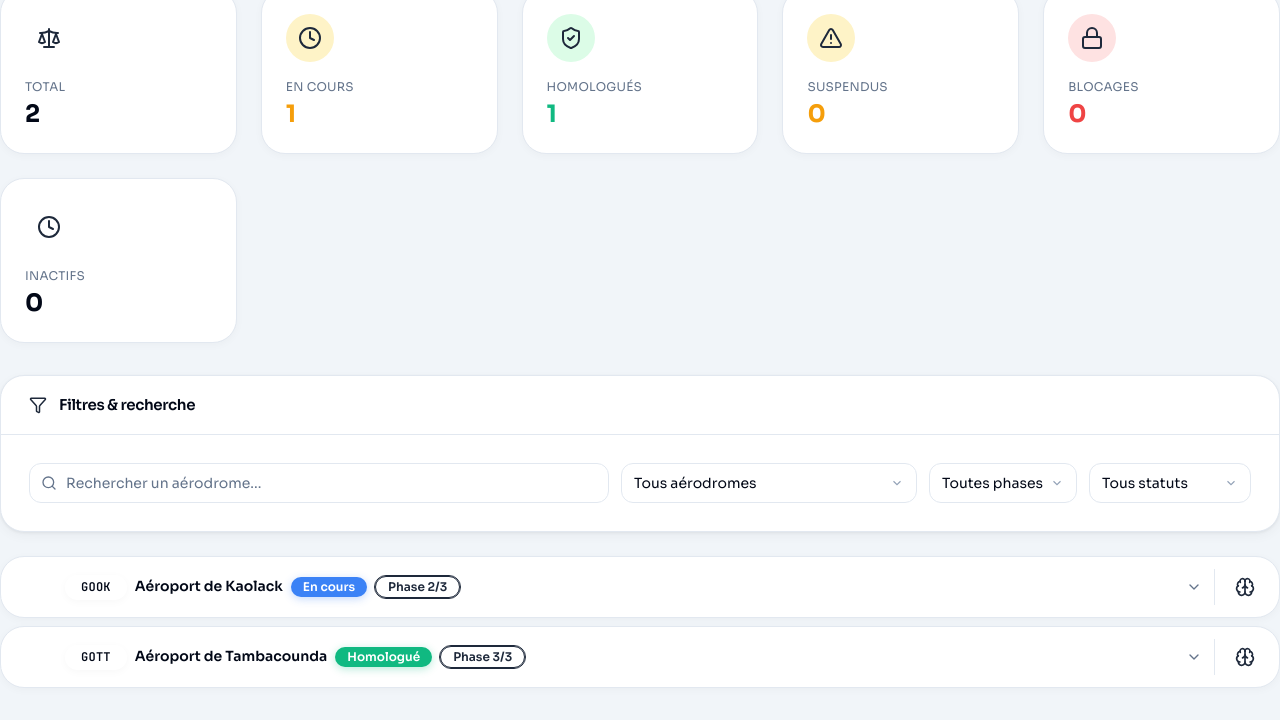
Test: HomologationModule › Accordéon et affichage des phases › ouvre l'accordéon GOOK et affiche les 3 phases
(page scrolled)
Click the button "GOOK": (96, 587) [17, 569, 1202, 605]
(page scrolled)
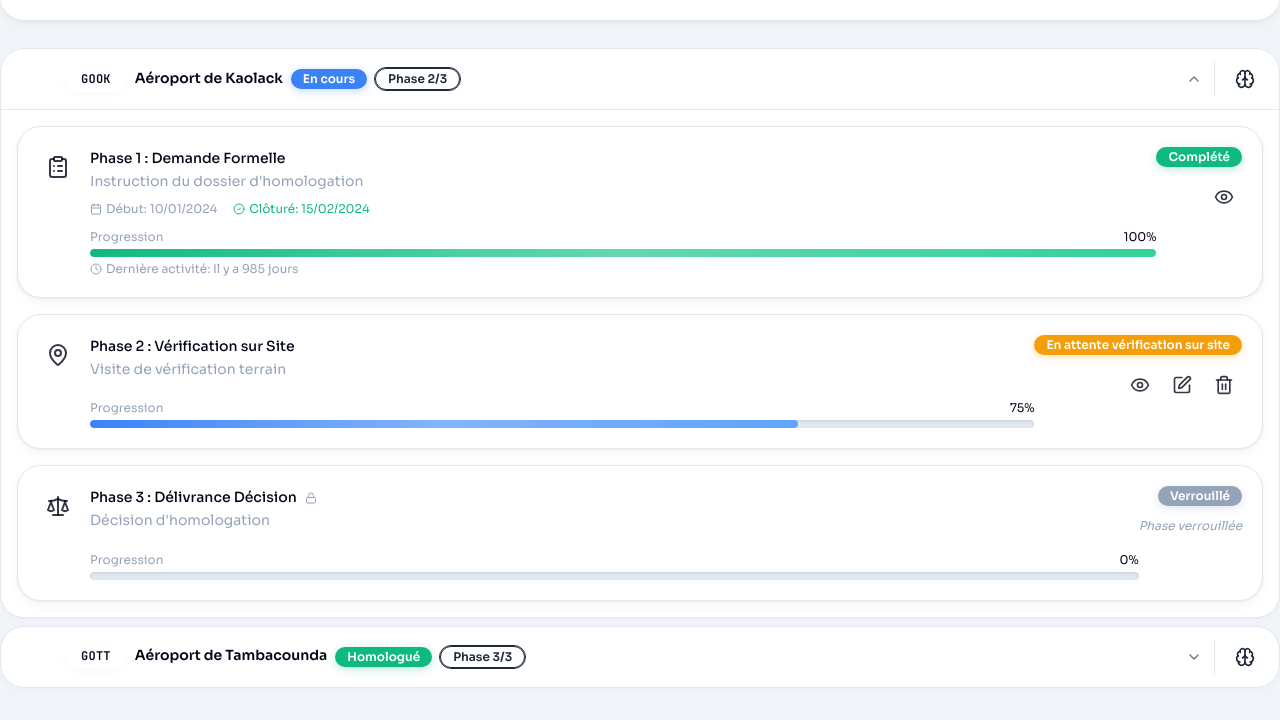
Expected: the heading "Phase 1 : Demande Formelle" is shown, [90, 147, 286, 170]
Expected: the heading "Phase 2 : Vérification sur Site" is shown, [90, 335, 295, 358]
Expected: the heading "Phase 3 : Délivrance Décision" is shown, [90, 486, 297, 509]
